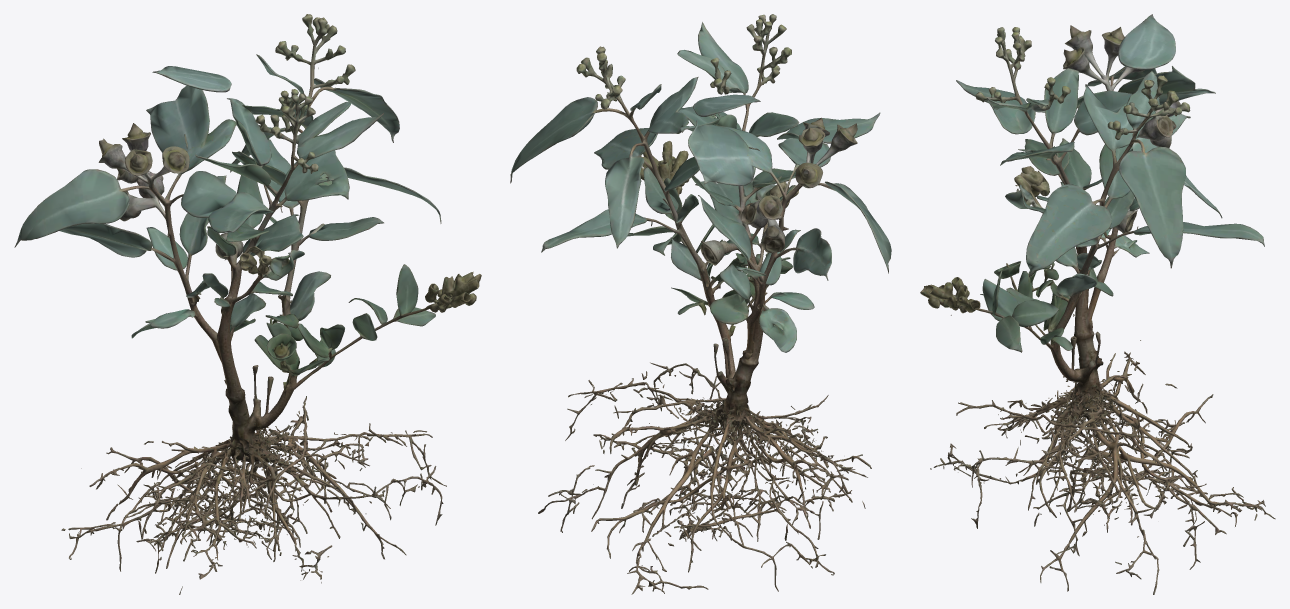
The model's file is eucalipto.glb.
3 renders of one model, left to right at view 1: azimuth 30°, elevation 25°; view 2: azimuth 150°, elevation 25°; view 3: azimuth 270°, elevation 25°, orthographic. The views are drawn at different scales.
Visible parts, largest first — view 1: geometry_0; view 2: geometry_0; view 3: geometry_0.
Part boxes in pixels (x1,y1,x2,y2): geometry_0: (14, 14, 481, 594); geometry_0: (510, 14, 891, 594); geometry_0: (920, 14, 1275, 594).
Bounding box in the file's own units: 0.7805 × 0.999 × 0.6368.
1 material, 1 textured.
